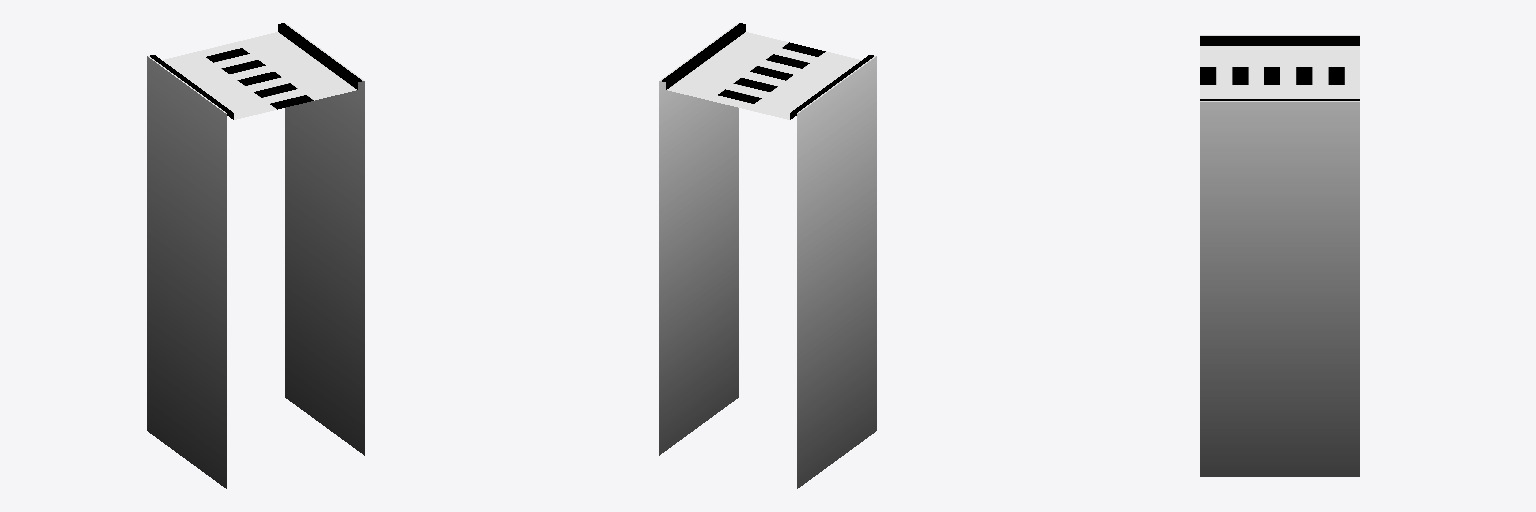
The picture shows the model from 3 angles: view 1: azimuth 30°, elevation 25°; view 2: azimuth 150°, elevation 25°; view 3: azimuth 270°, elevation 25°; orthographic projection.
Visible parts, largest first — view 1: Cube.004_Cube.010; view 2: Cube.004_Cube.010; view 3: Cube.004_Cube.010.
Boxes of the visible parts, <box> form: Cube.004_Cube.010: <box>147,23,364,488</box>; Cube.004_Cube.010: <box>659,23,876,488</box>; Cube.004_Cube.010: <box>1200,35,1359,476</box>.
Bounding box in the file's own units: 2 × 5.2 × 2.
Materials: 1 (1 with a texture image).